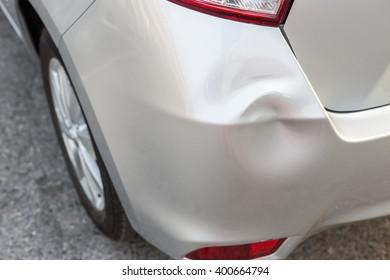rear-bumper-dent: (107, 60, 389, 258)
